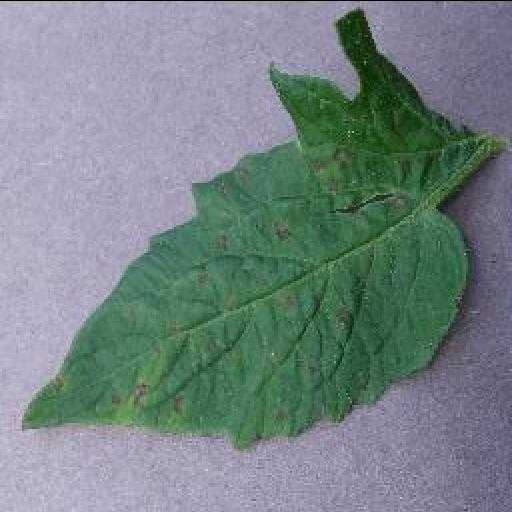disease_tomato: (16, 8, 468, 444)
